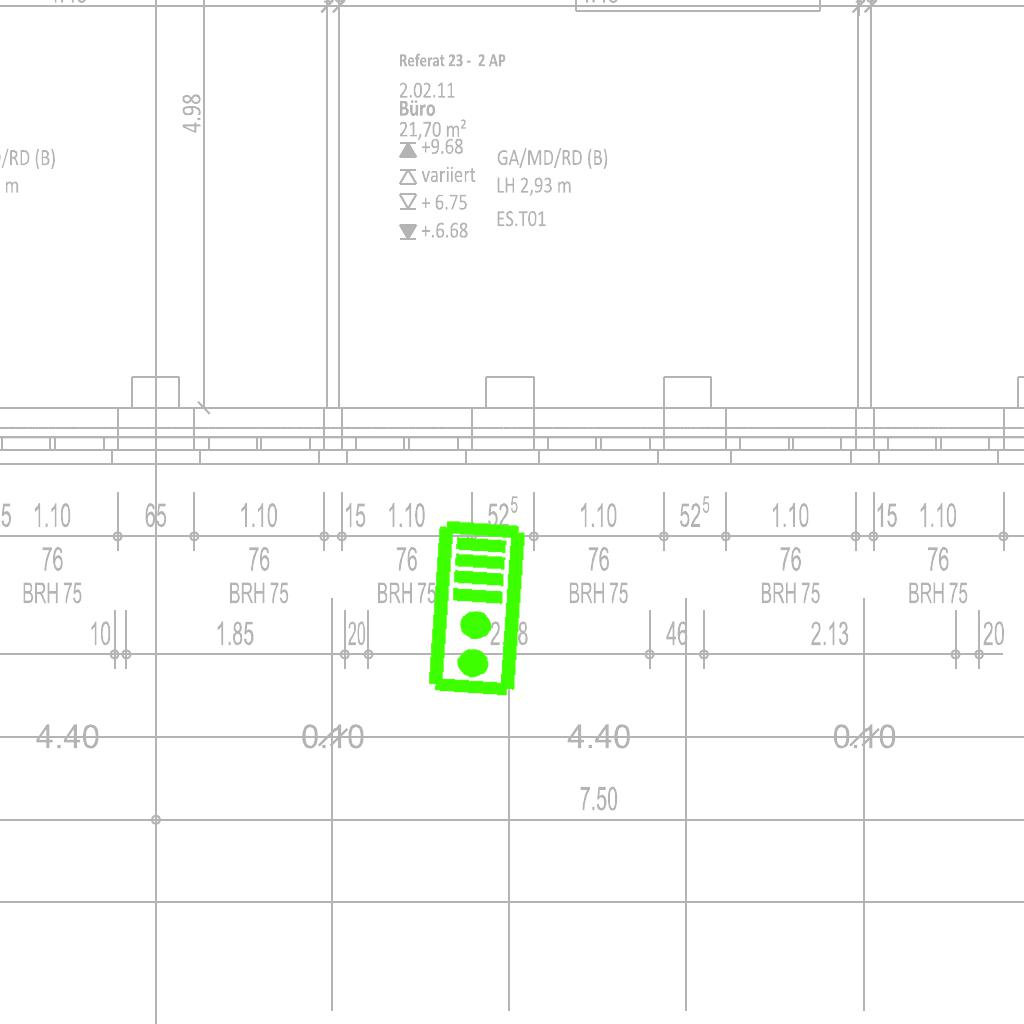Gegensprechanlage_mit_Video: (424, 517, 533, 701)
